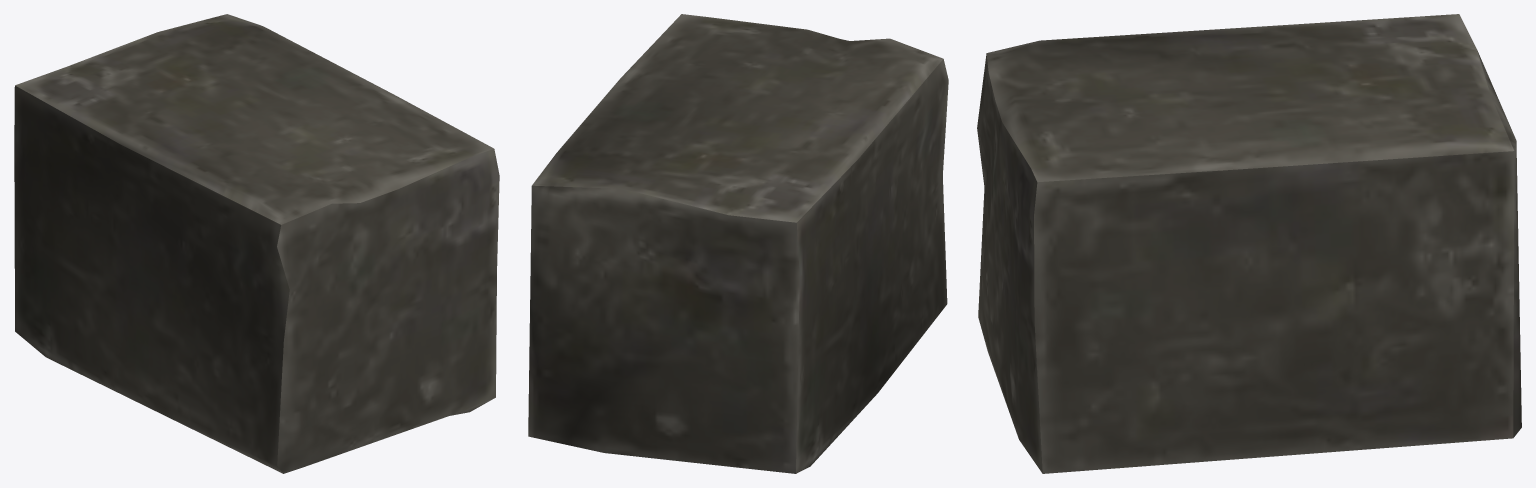
The picture shows the model from 3 angles, left to right: view 1: azimuth 30°, elevation 25°; view 2: azimuth 150°, elevation 25°; view 3: azimuth 270°, elevation 25°; orthographic projection. The views are drawn at different scales.
Parts seen in each view (by area): view 1: SM_Greathall_Wall_Block_A_LOD0; view 2: SM_Greathall_Wall_Block_A_LOD0; view 3: SM_Greathall_Wall_Block_A_LOD0.
Boxes of the visible parts, x1=… form: SM_Greathall_Wall_Block_A_LOD0: x1=14, y1=14, x2=499, y2=473; SM_Greathall_Wall_Block_A_LOD0: x1=528, y1=14, x2=948, y2=473; SM_Greathall_Wall_Block_A_LOD0: x1=977, y1=14, x2=1521, y2=473.
Bounding box in the file's own units: 1.19 × 1 × 1.62.
1 material, 1 textured.
